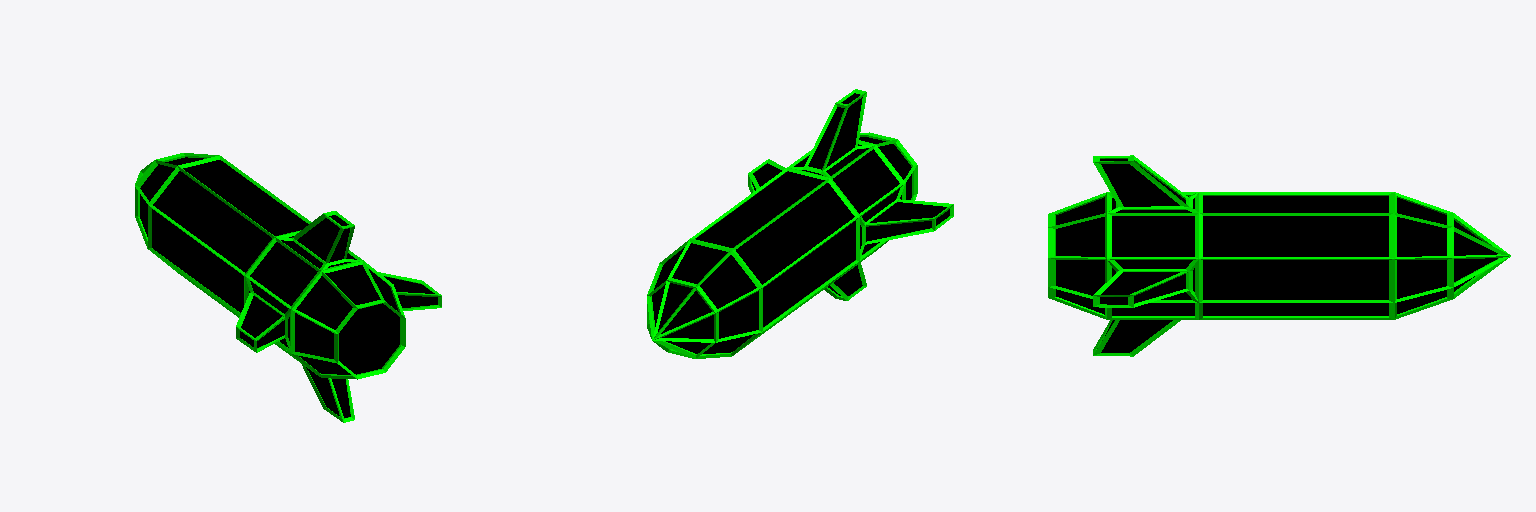
Rendered from missile_wire.obj.
The picture shows the model from 3 angles: view 1: azimuth 30°, elevation 25°; view 2: azimuth 150°, elevation 25°; view 3: azimuth 270°, elevation 25°; orthographic projection.
Visible parts, largest first — view 1: Cylinder, Cylinder.001; view 2: Cylinder, Cylinder.001; view 3: Cylinder, Cylinder.001.
Boxes of the visible parts, x1=… form: Cylinder: x1=140, y1=157, x2=437, y2=417; Cylinder.001: x1=135, y1=153, x2=441, y2=422; Cylinder: x1=652, y1=93, x2=949, y2=353; Cylinder.001: x1=647, y1=89, x2=953, y2=358; Cylinder: x1=1056, y1=159, x2=1497, y2=352; Cylinder.001: x1=1048, y1=155, x2=1510, y2=356.
Bounding box in the file's own units: 1.14 × 1.14 × 2.46.